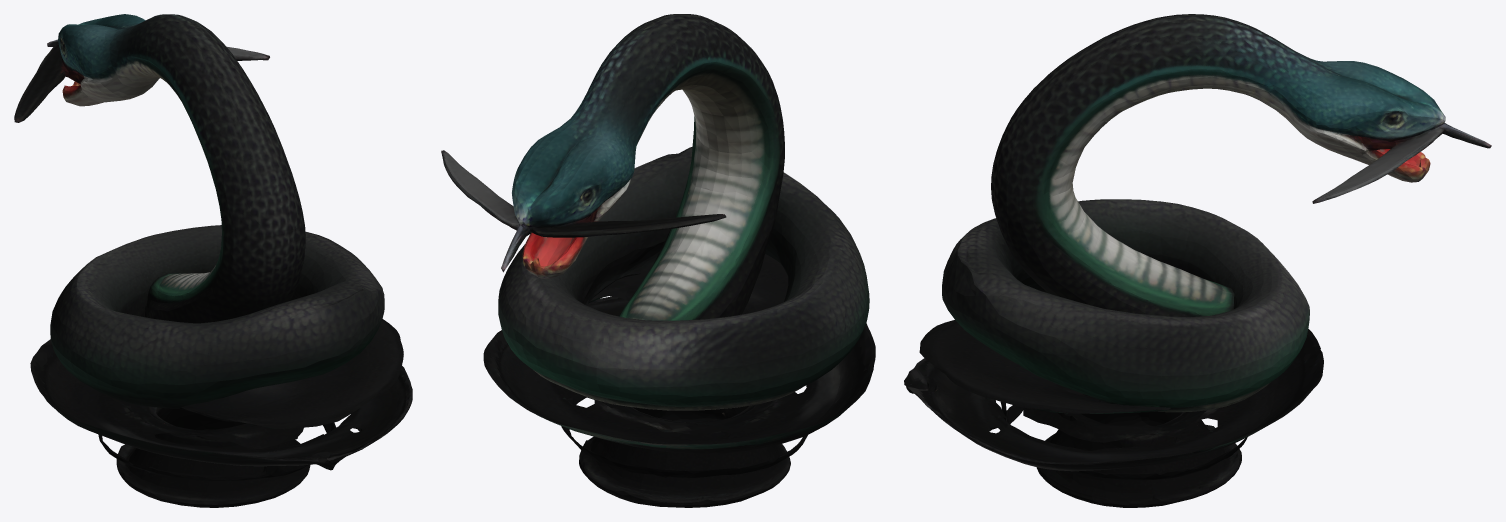
File: VenomBeastEnemy.glb
3 renders of one model, left to right at view 1: azimuth 30°, elevation 25°; view 2: azimuth 150°, elevation 25°; view 3: azimuth 270°, elevation 25°, orthographic. The views are drawn at different scales.
Bounding box in the file's own units: 57.12 × 72.98 × 85.71.
1 material, 1 textured.
